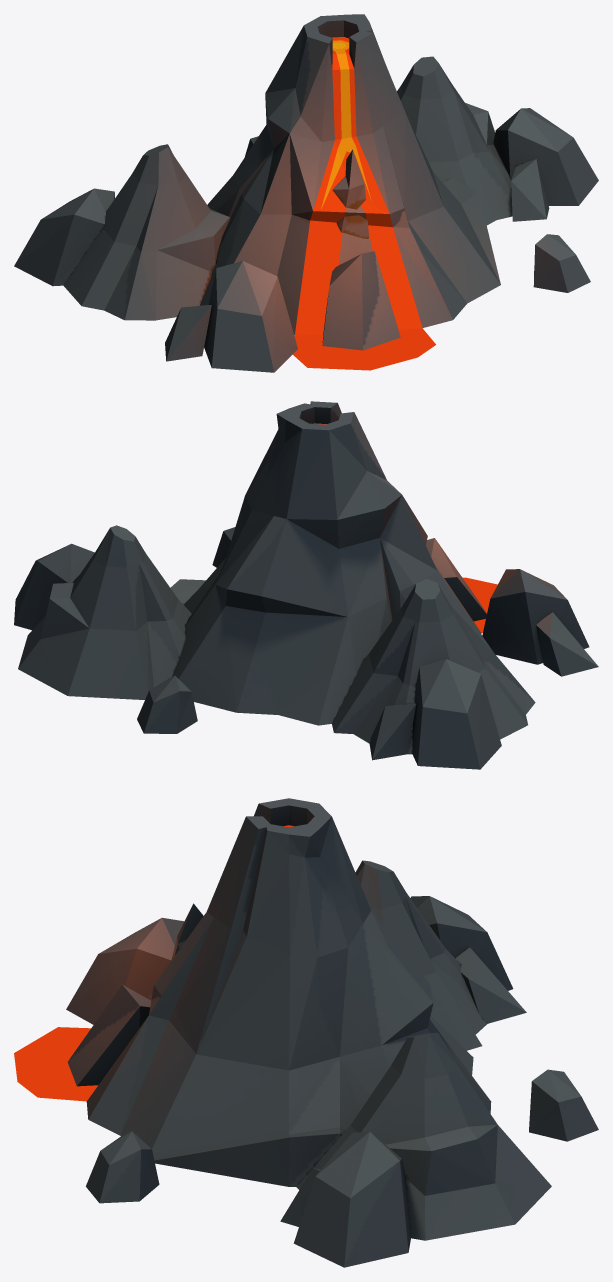
Rendered from volcan.obj.
The picture shows the model from 3 angles, top to bottom: view 1: azimuth 30°, elevation 25°; view 2: azimuth 150°, elevation 25°; view 3: azimuth 270°, elevation 25°; orthographic projection. The views are drawn at different scales.
Visible parts, largest first — view 1: volcano; view 2: volcano; view 3: volcano.
Boxes of the visible parts, box(x1,y1,x2,y2) form: volcano: box(14, 14, 598, 372); volcano: box(14, 401, 598, 769); volcano: box(14, 798, 598, 1267).
Size of the model in its own units: 2 by 0.8637 by 1.61.
Materials: 1 (1 with a texture image).
